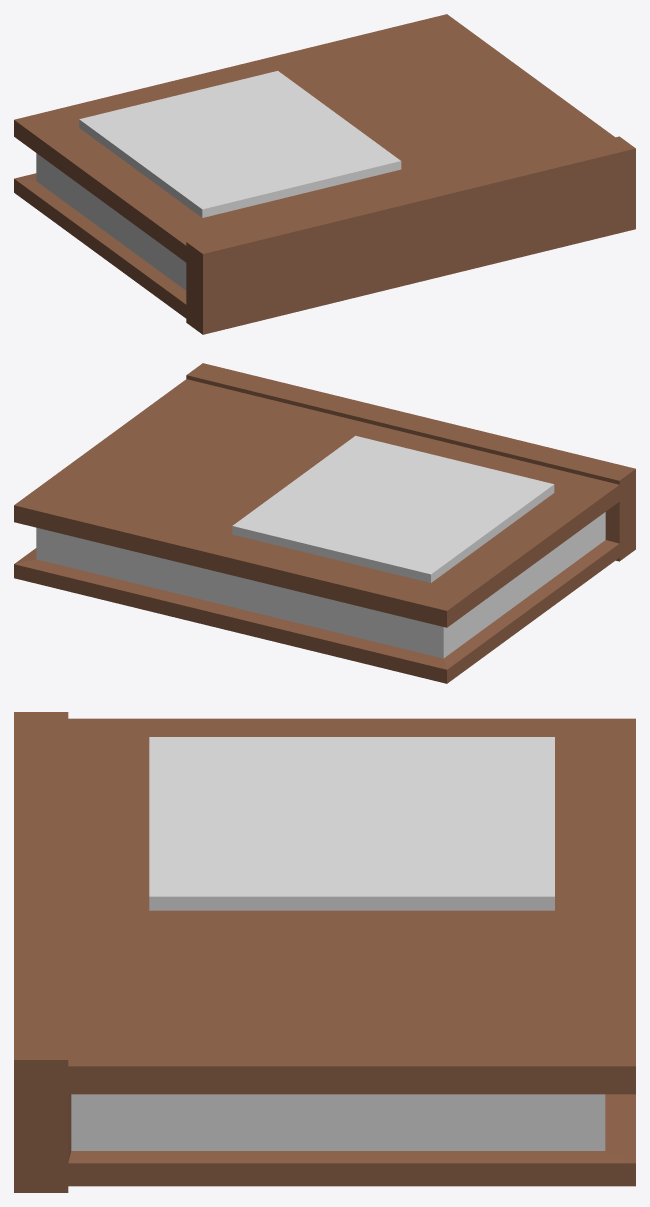
Rendered from Book.fbx.
3 renders of one model, top to bottom at view 1: azimuth 30°, elevation 25°; view 2: azimuth 150°, elevation 25°; view 3: azimuth 270°, elevation 25°, orthographic. The views are drawn at different scales.
Visible parts, largest first — view 1: Cube; view 2: Cube; view 3: Cube.
Part boxes in pixels (x1,y1,x2,y2): Cube: [14, 14, 635, 334]; Cube: [14, 363, 635, 683]; Cube: [14, 712, 635, 1192].
Size of the model in its own units: 265 by 49.91 by 200.
